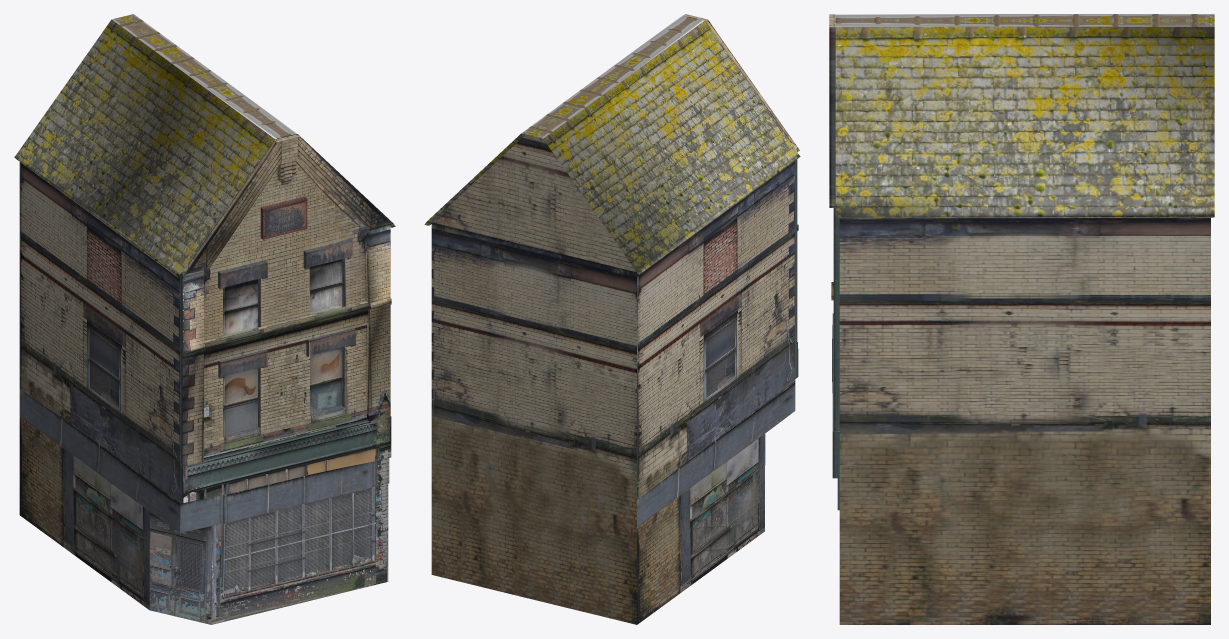
The model's file is building8.dae.
3 renders of one model, left to right at view 1: azimuth 30°, elevation 25°; view 2: azimuth 150°, elevation 25°; view 3: azimuth 270°, elevation 25°, orthographic. The views are drawn at different scales.
Parts seen in each view (by area): view 1: meshU3D; view 2: meshU3D; view 3: meshU3D.
Boxes of the visible parts, bbox=[...] form: meshU3D: bbox=[14, 14, 395, 624]; meshU3D: bbox=[424, 14, 800, 624]; meshU3D: bbox=[829, 14, 1214, 624].
Bounding box in the file's own units: 250 × 516 × 330.
1 material, 1 textured.
